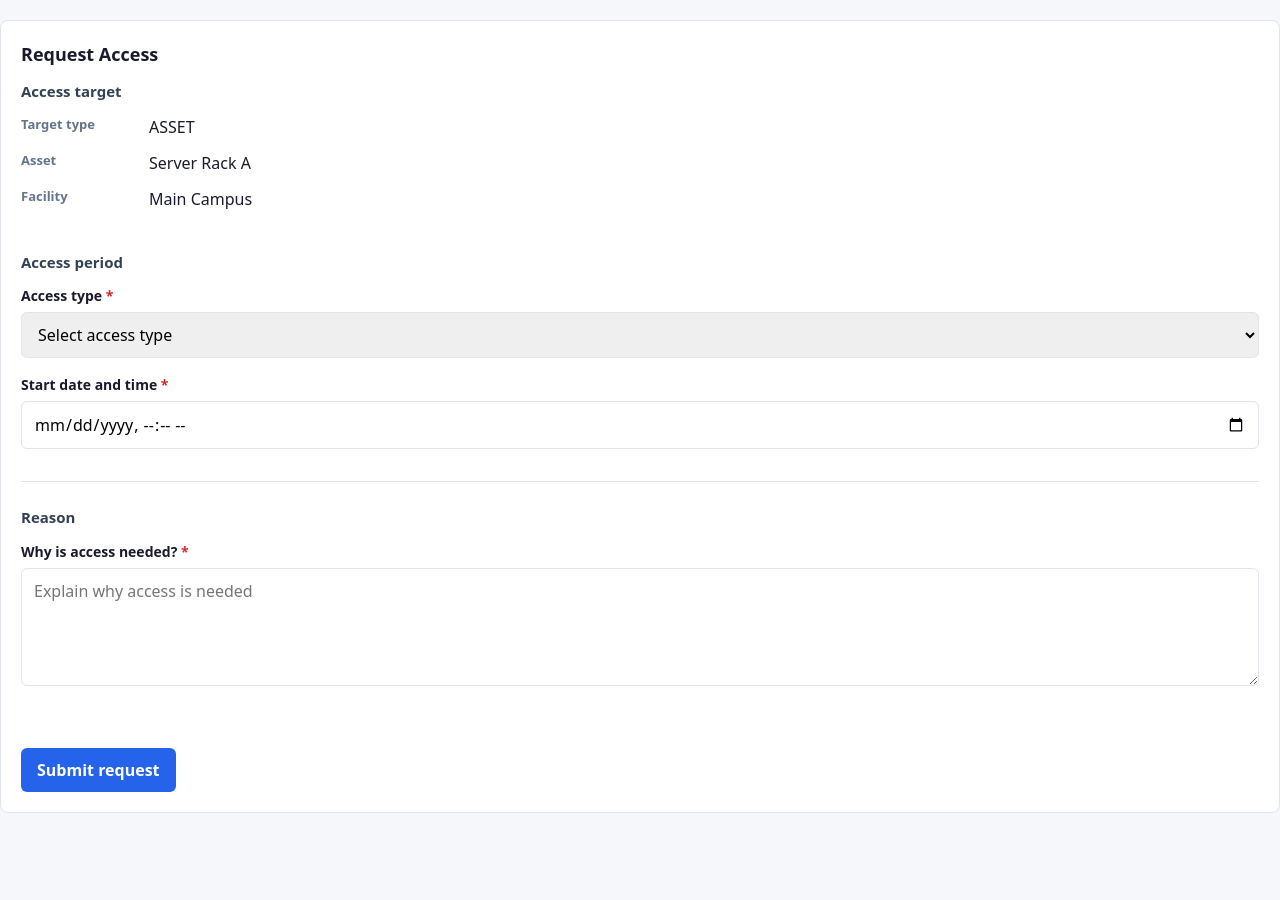
Test: Access request form › submission loading state
Select "Permanent" in the dropdown labelled "Access type *" at (640, 335), box [21, 312, 1259, 358]
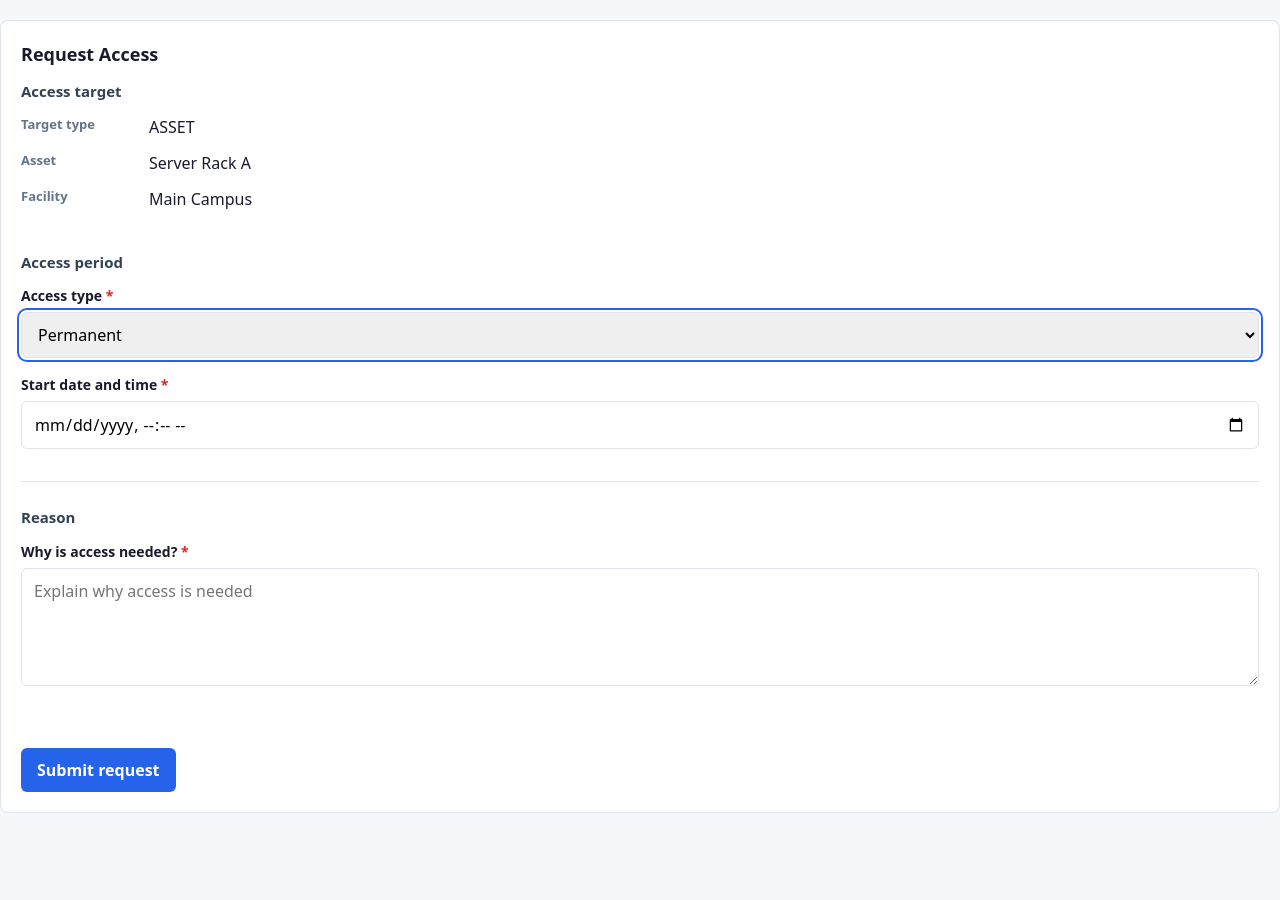
Type "2030-01-01T09:00" into the field labelled "Start date and time *" at (640, 425), box [21, 401, 1259, 449]
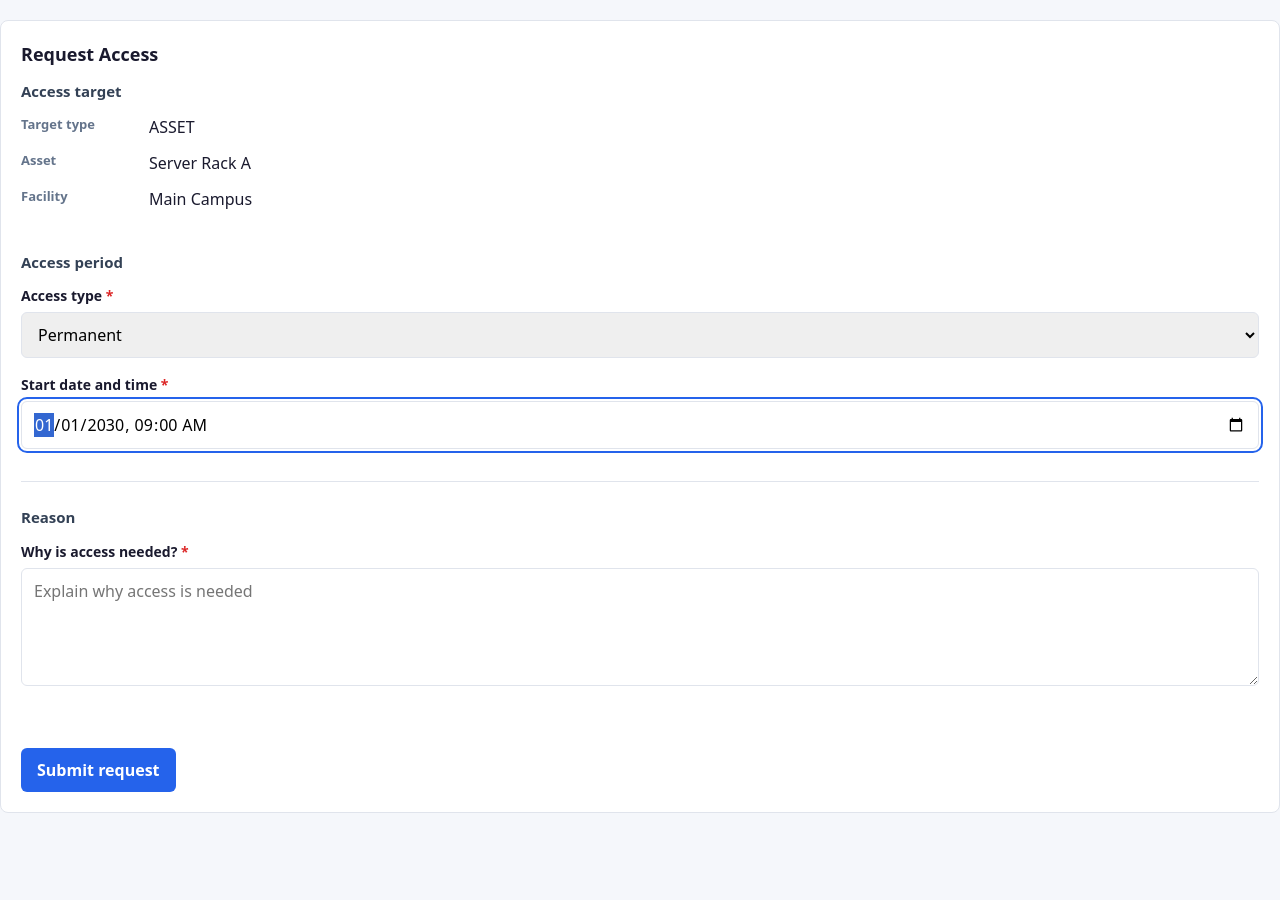
Type "Project work" into the text box labelled "Why is access needed? *" at (640, 626), box [21, 568, 1259, 686]
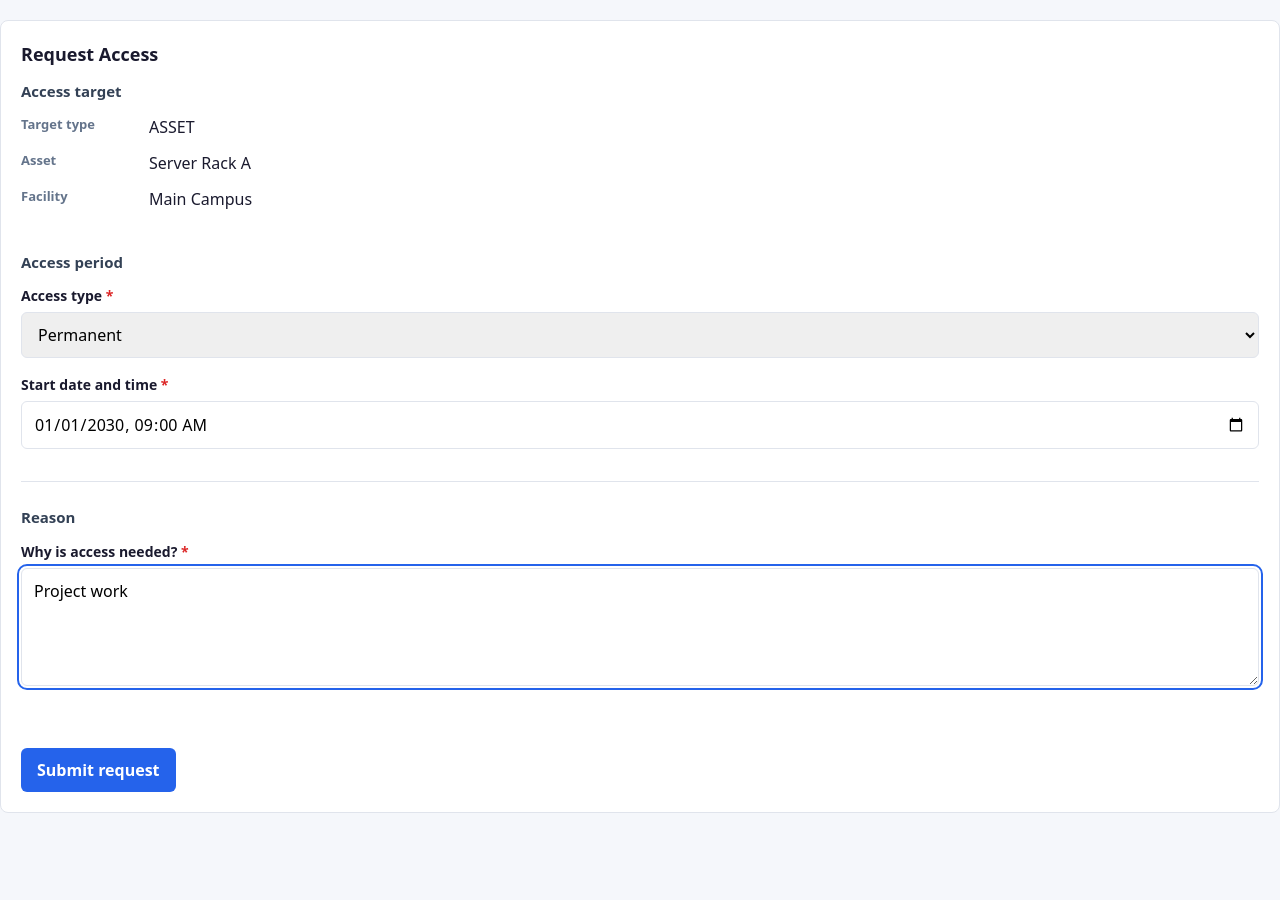
Click the button "Submit request" at (98, 770), box [21, 748, 176, 792]
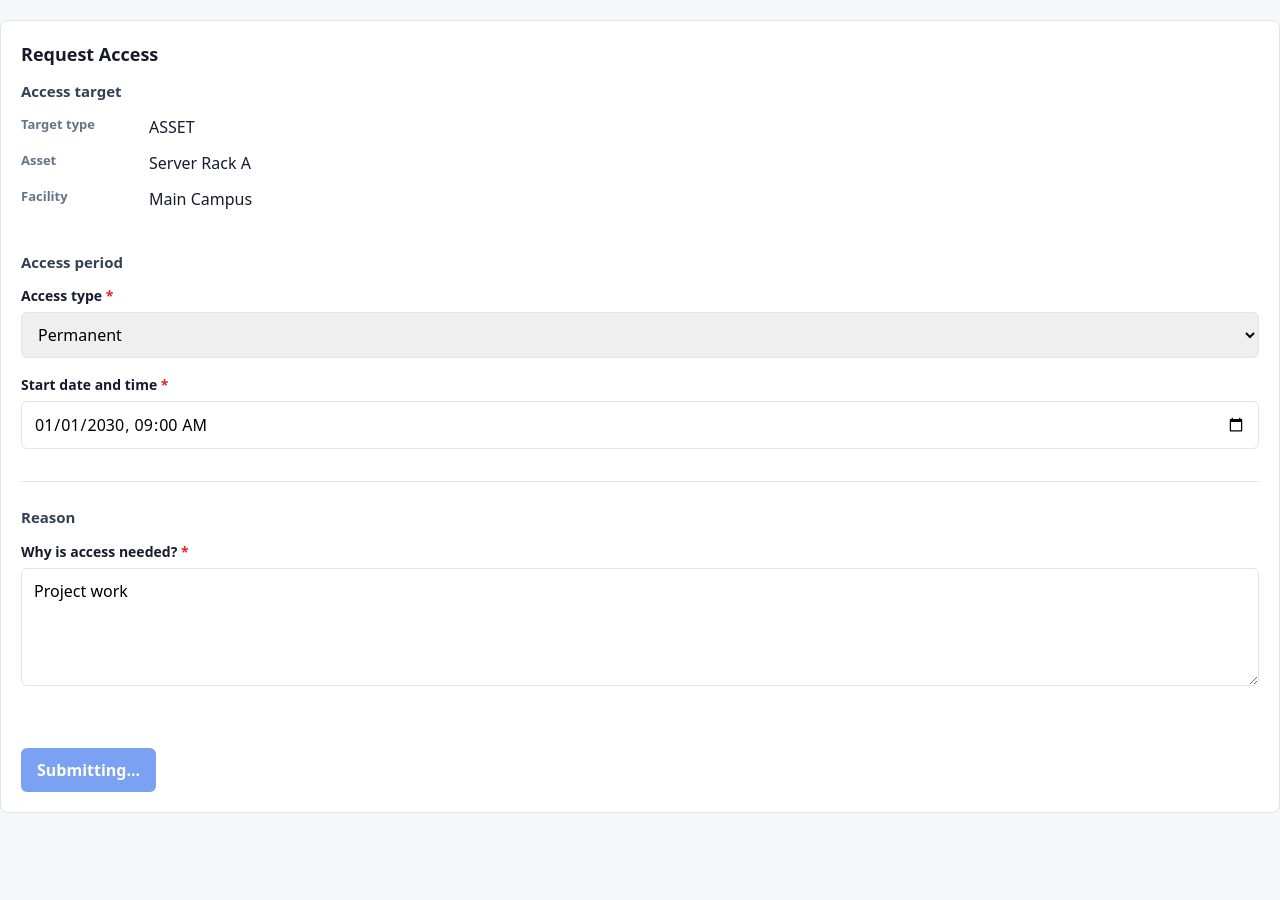
Check: the button "Submitting..." is disabled, box [21, 748, 156, 792]
